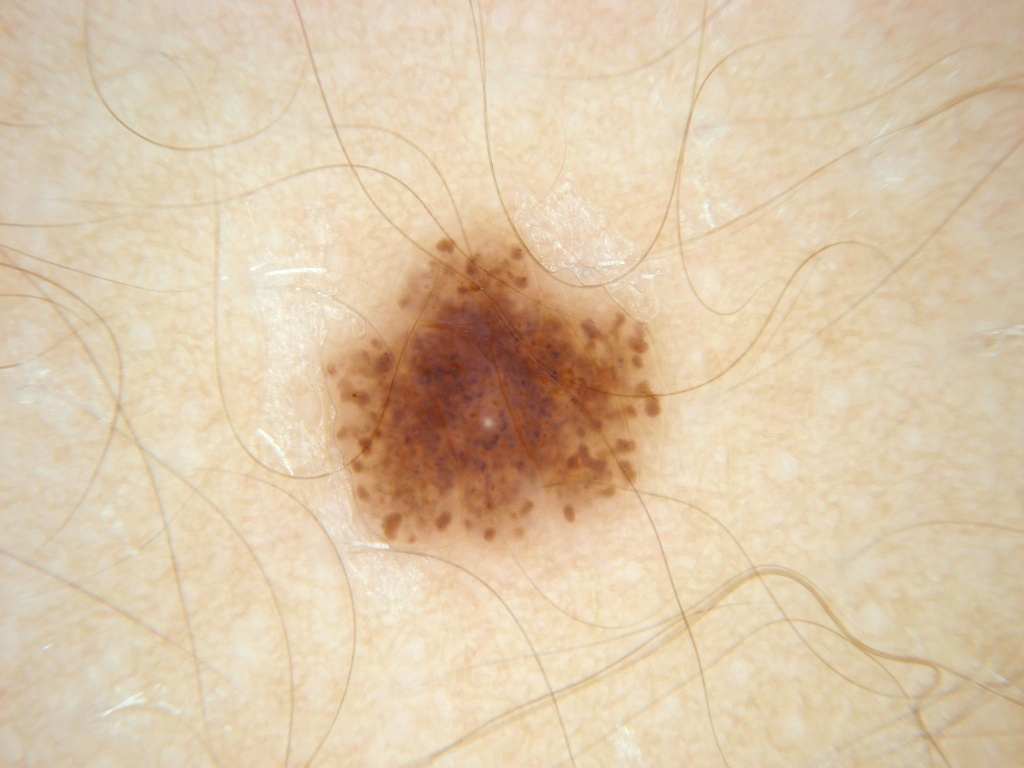Detected Lesion: (318, 228, 676, 552)
